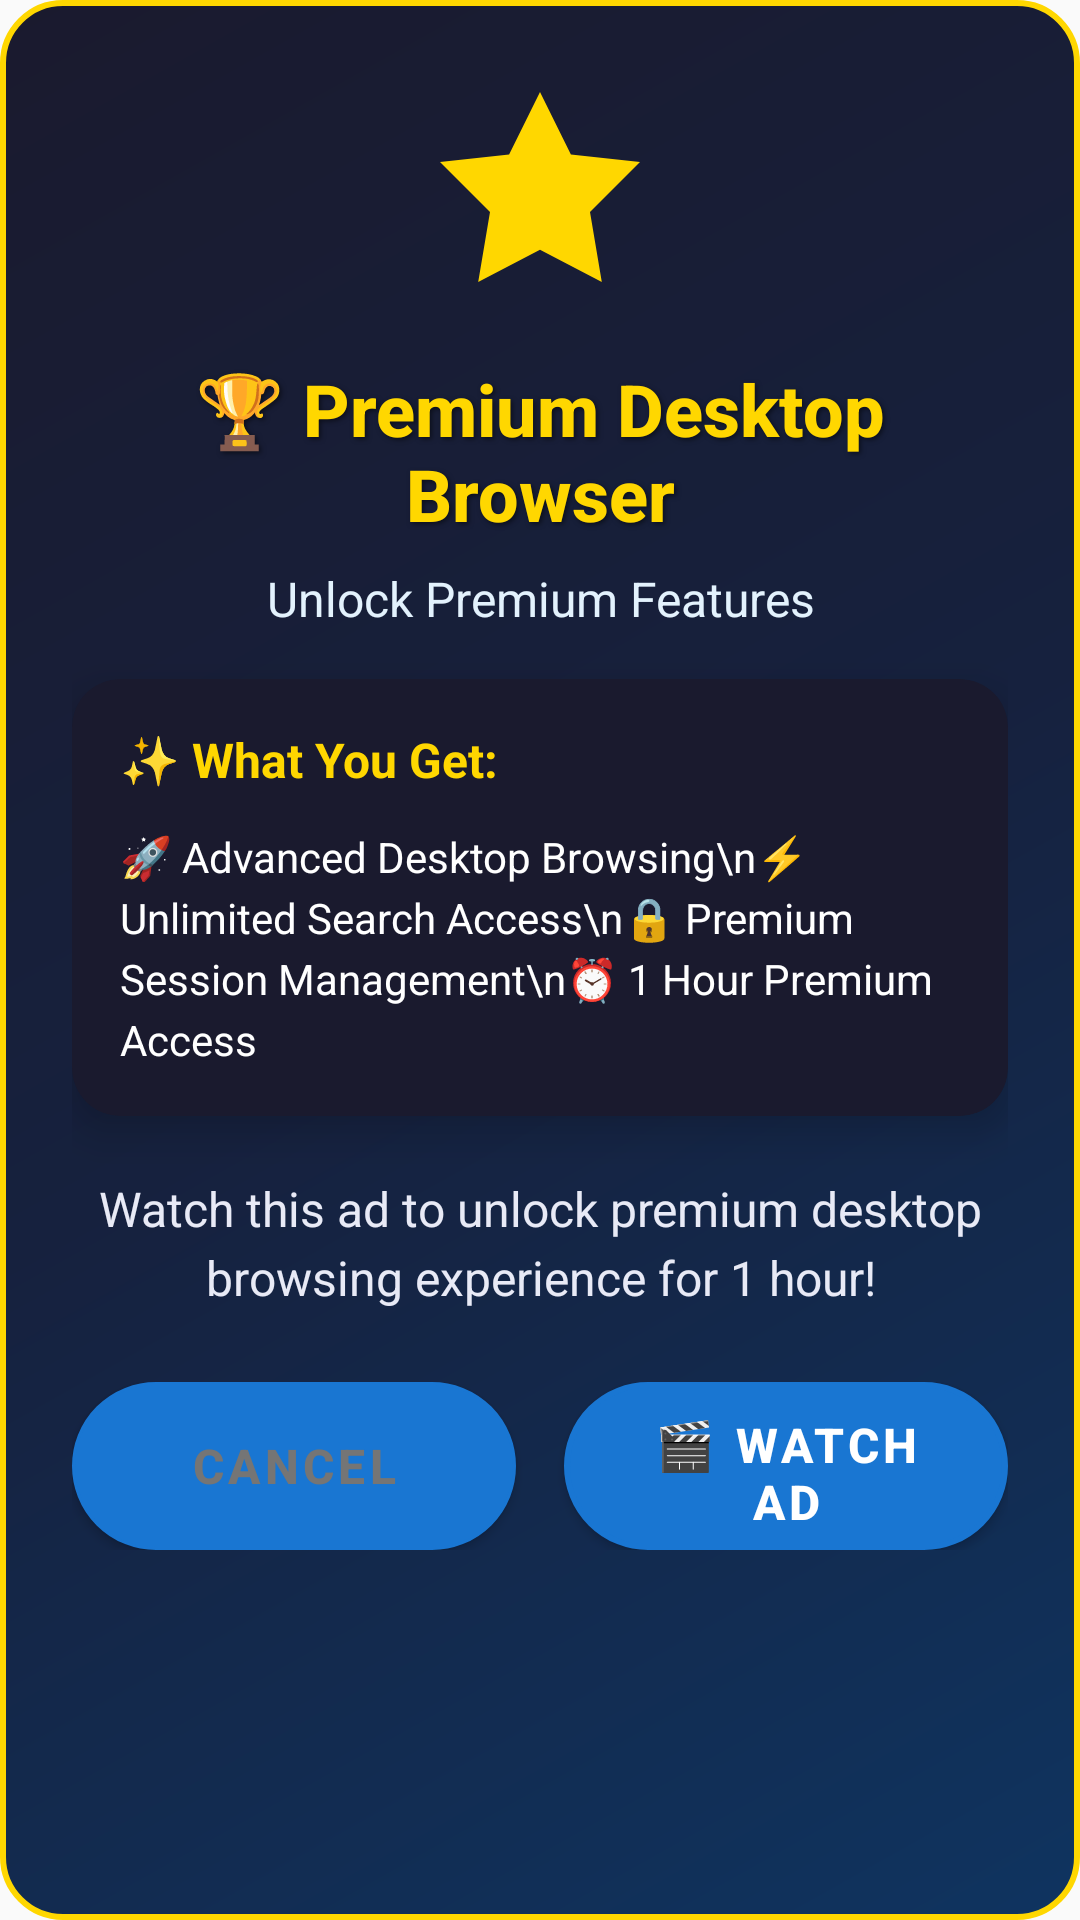

Named icons in this screenshot (1080x1920) and their bounding boxes, detection(x1, y1, x2, y2):
Premium Feature: detection(440, 92, 640, 282)
